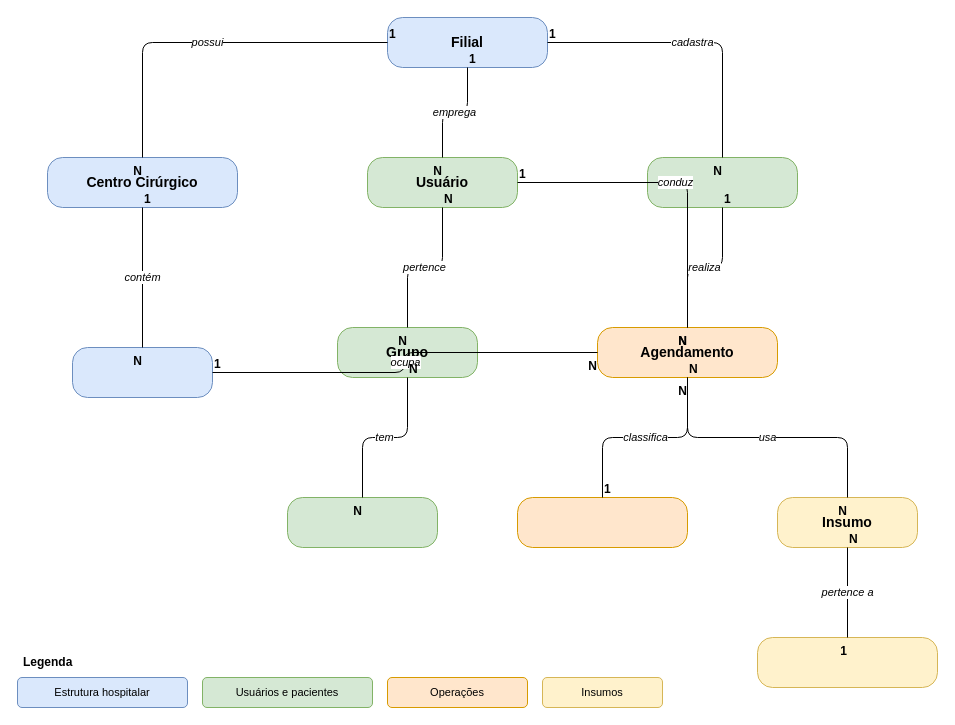
The diagram is 955 pixels wide and 725 high, and some of its shapes have lost their labels. The shapes that lost their labels are listed below. From the top down, each one's centre as x and y in pixels, then its label:
At [722,182]: "Paciente".
At [142,372]: "Sala".
At [362,522]: "Permissão".
At [602,522]: "Tipo de Serviço".
At [847,662]: "Categoria Insumo".
